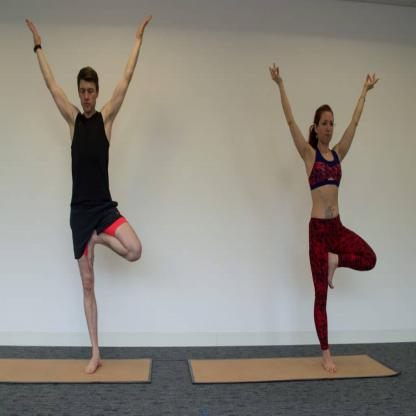tree: (20, 8, 162, 380), (266, 58, 386, 375)
